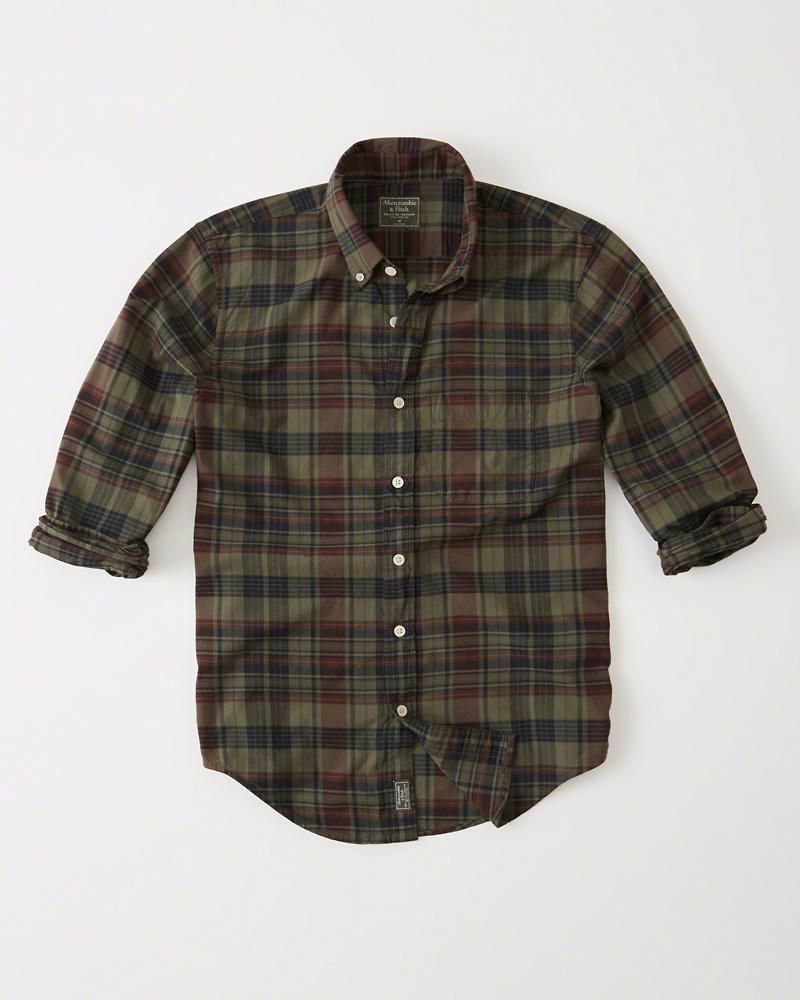teeshirt: (20, 127, 771, 866)
